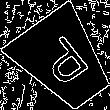P_SE: (32, 30, 95, 92)
